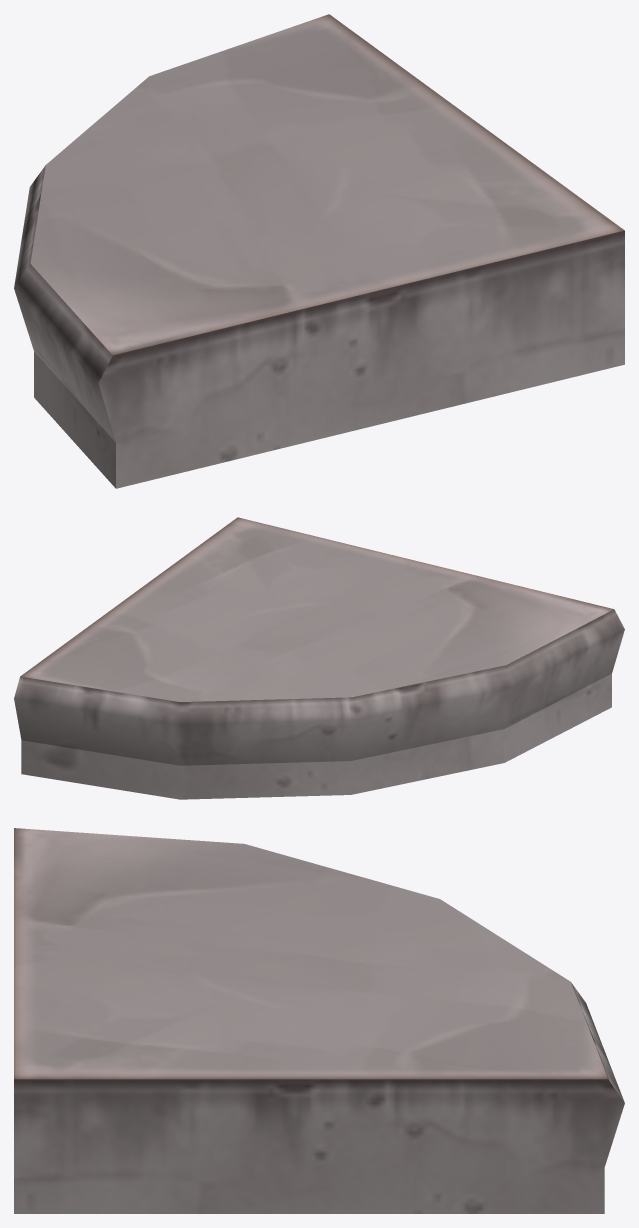
Rendered from sm_calcada_03.fbx.
3 views of the same model, one above another, from view 1: azimuth 30°, elevation 25°; view 2: azimuth 150°, elevation 25°; view 3: azimuth 270°, elevation 25° (orthographic). The views are drawn at different scales.
Parts seen in each view (by area): view 1: sm_calcada_03; view 2: sm_calcada_03; view 3: sm_calcada_03.
Part boxes in pixels (left/top/right/bottom): sm_calcada_03: left=14, top=14, right=624, bottom=488; sm_calcada_03: left=14, top=517, right=624, bottom=799; sm_calcada_03: left=14, top=828, right=624, bottom=1213.
Size of the model in its own units: 1.03 by 0.25 by 1.03.
